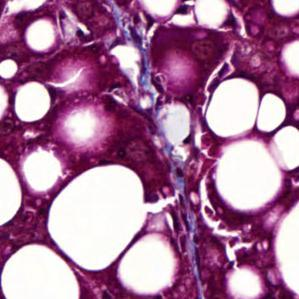steatosis: (2, 243, 81, 299), (14, 80, 53, 123), (0, 158, 21, 225)
